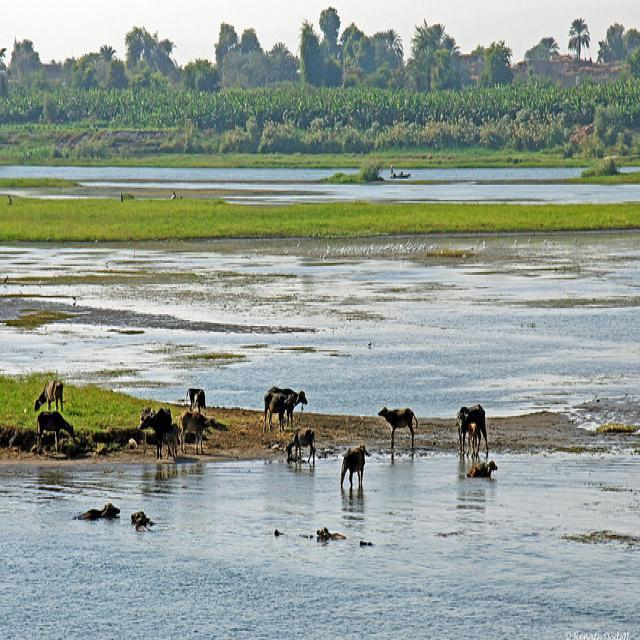cow: (138, 404, 171, 458), (265, 383, 307, 425), (339, 440, 371, 491), (454, 403, 487, 452), (377, 406, 417, 446), (35, 410, 73, 452), (177, 409, 210, 454), (261, 392, 294, 431), (284, 427, 314, 466), (31, 377, 64, 410), (182, 383, 205, 415), (138, 404, 154, 443), (464, 421, 480, 457)
